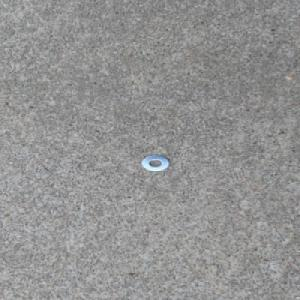Washer: (141, 154, 171, 172)
